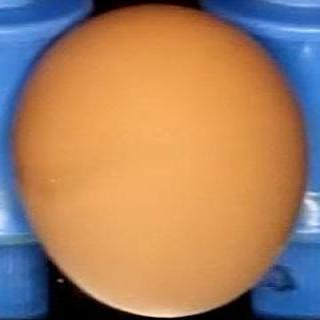Telur: (5, 6, 313, 318)
